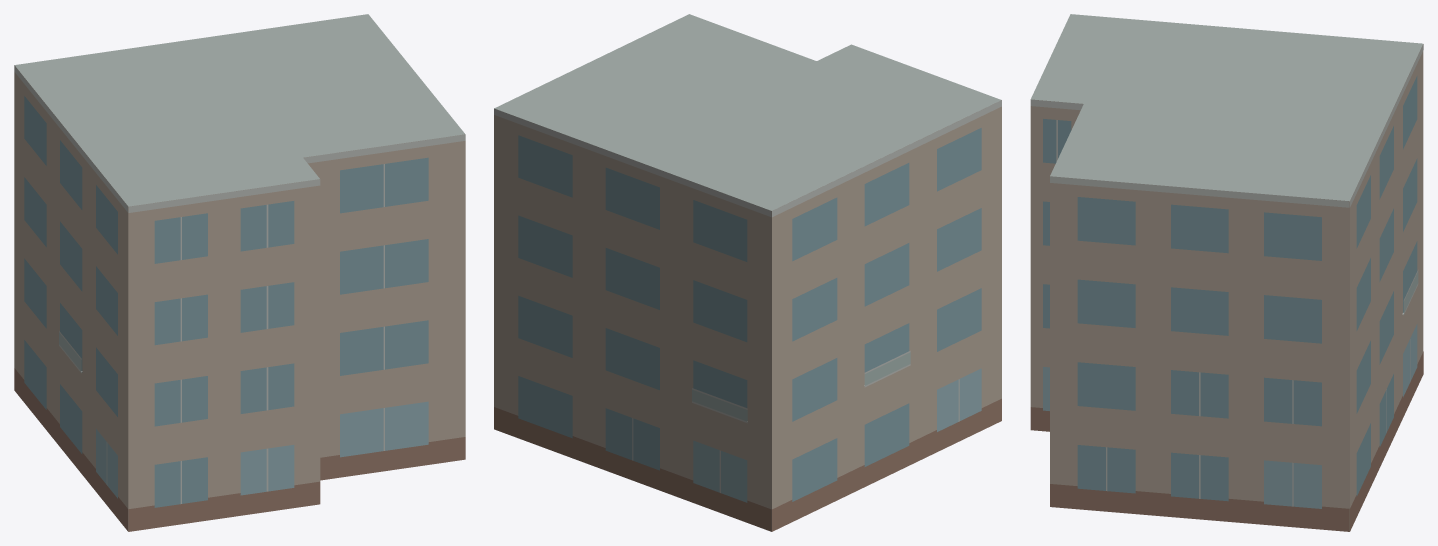
Rendered from residential-5aaf7912-794b-45b3-bc03-c711e2f71afd.glb.
The picture shows the model from 3 angles, left to right: view 1: azimuth 30°, elevation 25°; view 2: azimuth 150°, elevation 25°; view 3: azimuth 270°, elevation 25°; orthographic projection. The views are drawn at different scales.
Parts seen in each view (by area): view 1: residential-5aaf7912-794b-45b3-bc03-c711e2f71afd.tmp; view 2: residential-5aaf7912-794b-45b3-bc03-c711e2f71afd.tmp; view 3: residential-5aaf7912-794b-45b3-bc03-c711e2f71afd.tmp.
Part boxes in pixels (x1=…): residential-5aaf7912-794b-45b3-bc03-c711e2f71afd.tmp: x1=14, y1=14, x2=465, y2=531; residential-5aaf7912-794b-45b3-bc03-c711e2f71afd.tmp: x1=494, y1=14, x2=1001, y2=531; residential-5aaf7912-794b-45b3-bc03-c711e2f71afd.tmp: x1=1030, y1=14, x2=1423, y2=531.
Size of the model in its own units: 14.82 by 12.2 by 13.15.
